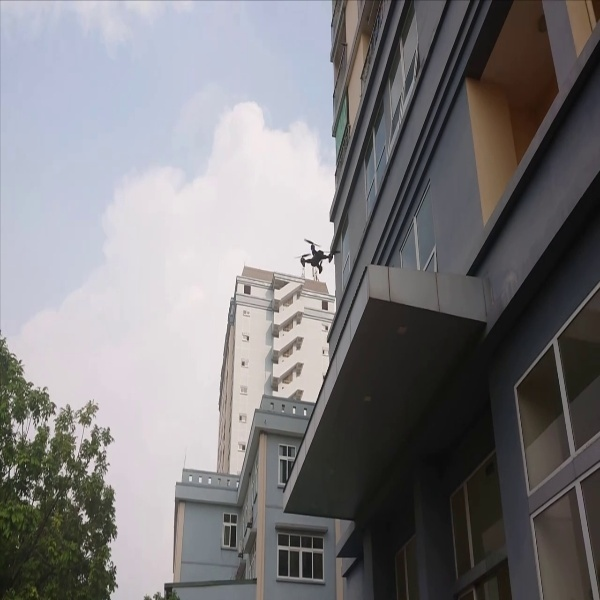drone: (298, 233, 342, 276)
